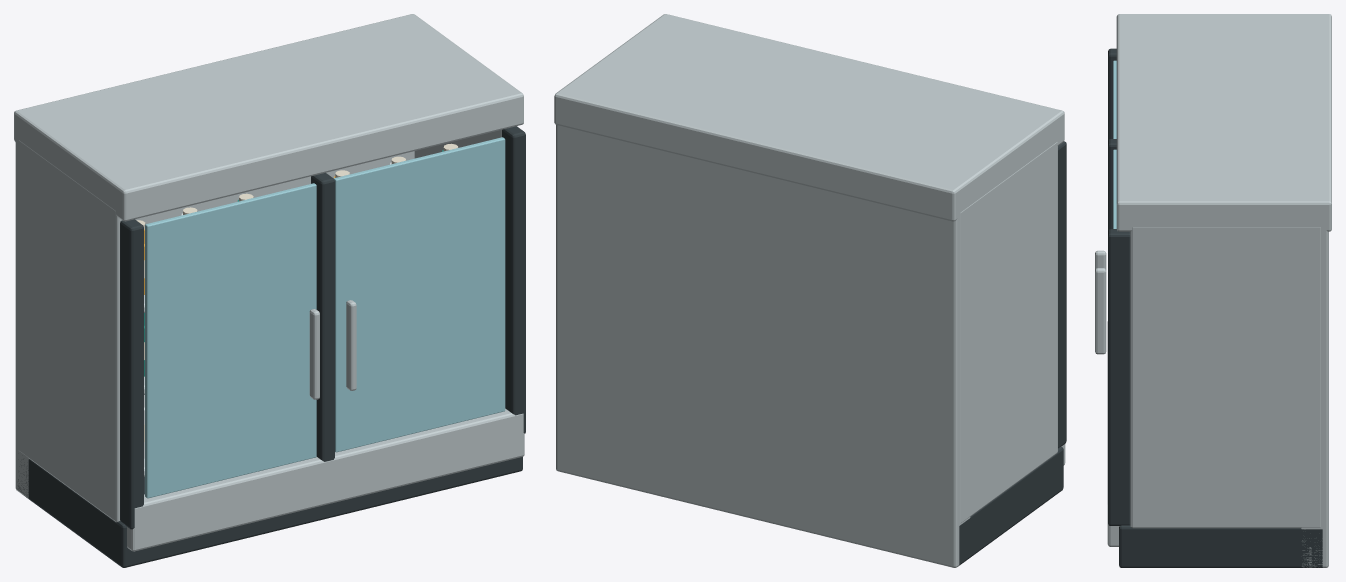
File: boxbox-chiller.glb
3 renders of one model, left to right at view 1: azimuth 30°, elevation 25°; view 2: azimuth 150°, elevation 25°; view 3: azimuth 270°, elevation 25°, orthographic. The views are drawn at different scales.
Visible parts, largest first — view 1: ColdSteel, GlassTint, Trim; view 2: ColdSteel, Trim; view 3: ColdSteel, Trim, GlassTint.
Part boxes in pixels (left/top/right/bottom): ColdSteel: left=14, top=14, right=524, bottom=551; GlassTint: left=145, top=137, right=505, bottom=498; Trim: left=17, top=126, right=525, bottom=567; ColdSteel: left=554, top=14, right=1065, bottom=567; Trim: left=959, top=141, right=1066, bottom=565; ColdSteel: left=1095, top=14, right=1331, bottom=567; Trim: left=1108, top=48, right=1322, bottom=567; GlassTint: left=1113, top=60, right=1116, bottom=228.
Size of the model in its own units: 1 by 0.9025 by 0.5285.
